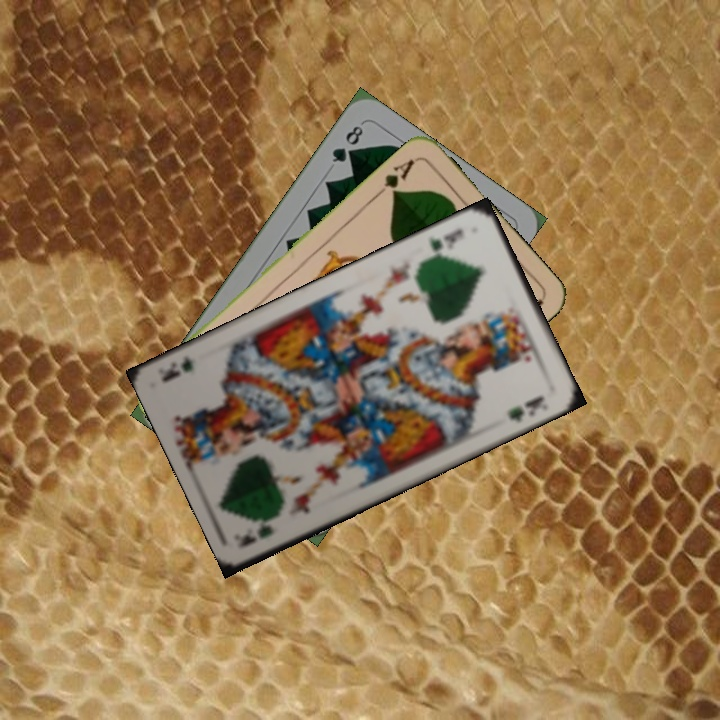G8: (328, 120, 366, 165)
GA: (371, 154, 417, 200)
GK: (422, 224, 467, 262), (237, 520, 273, 549)
